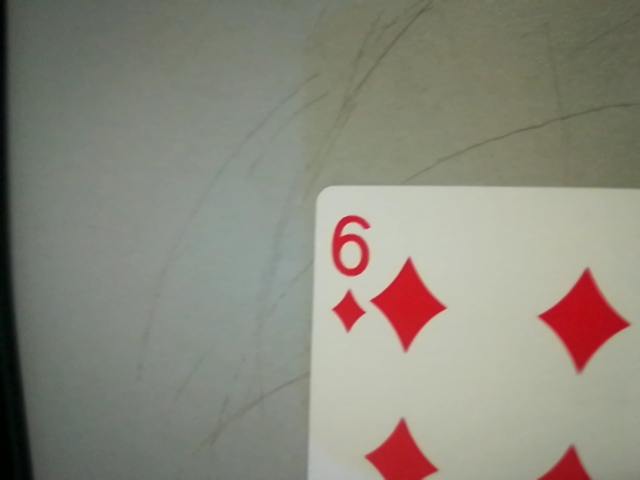fk 6: (318, 206, 381, 338)
